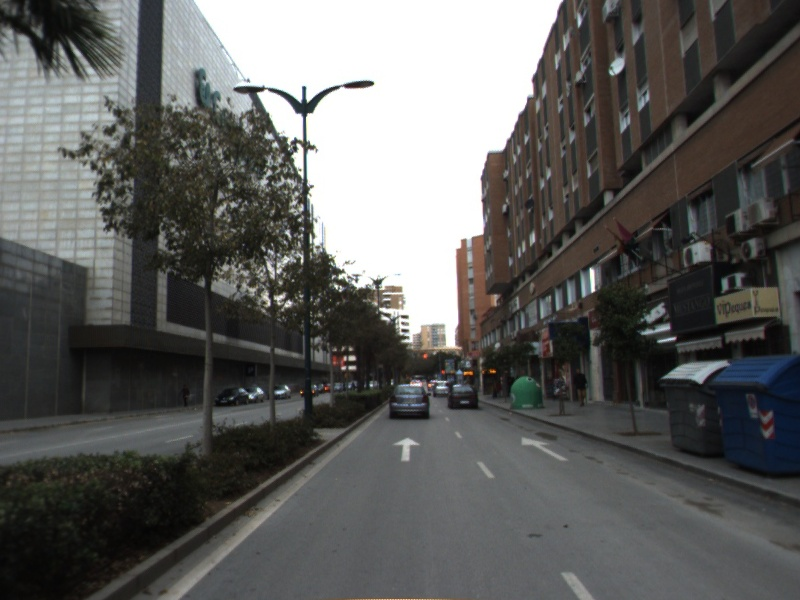STRAIGHT: (520, 435, 572, 463), (390, 435, 423, 463)
